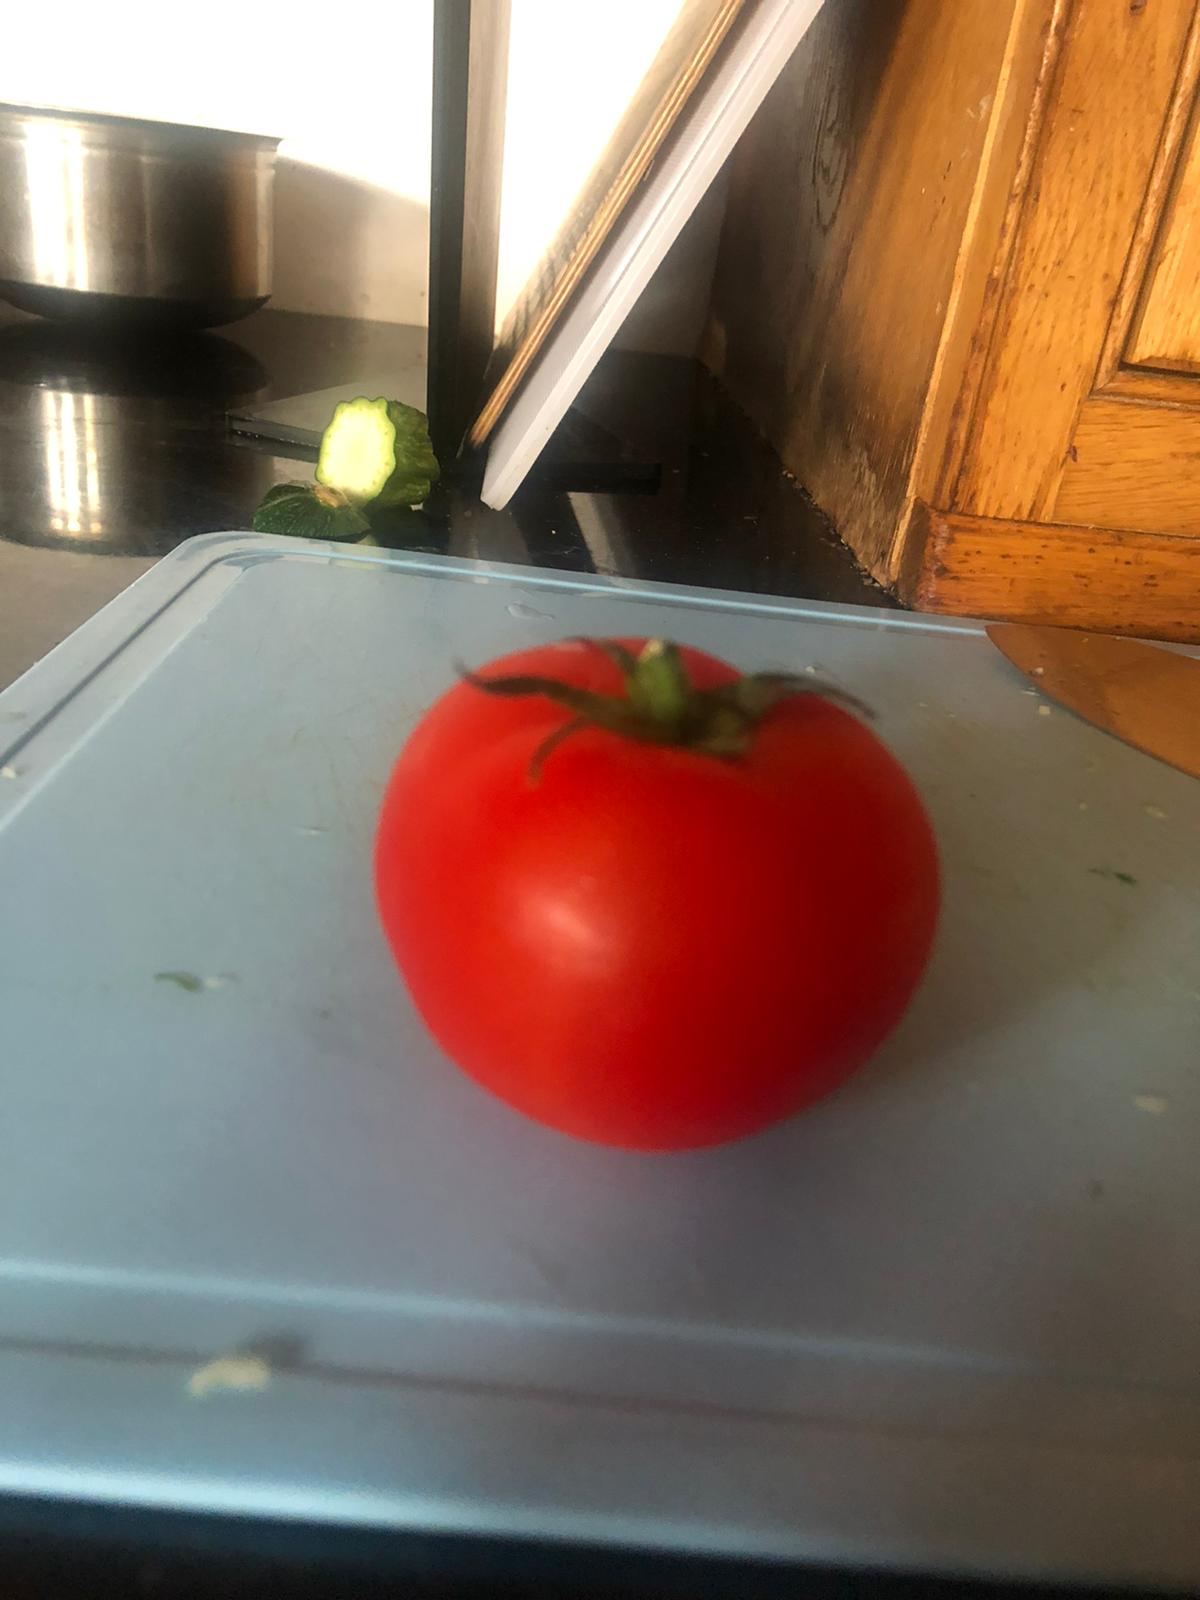Tomato: (383, 585, 971, 1160)
